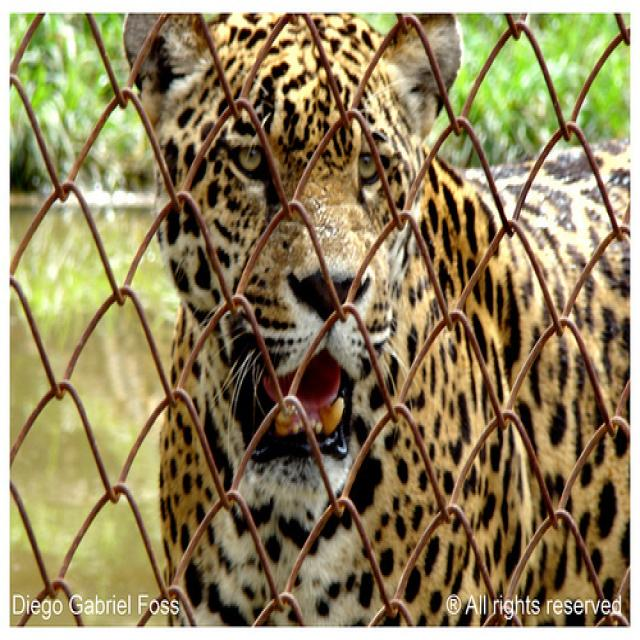Leopard: (121, 10, 630, 623)
